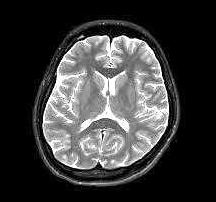Normal_Brain: (6, 1, 196, 202)
